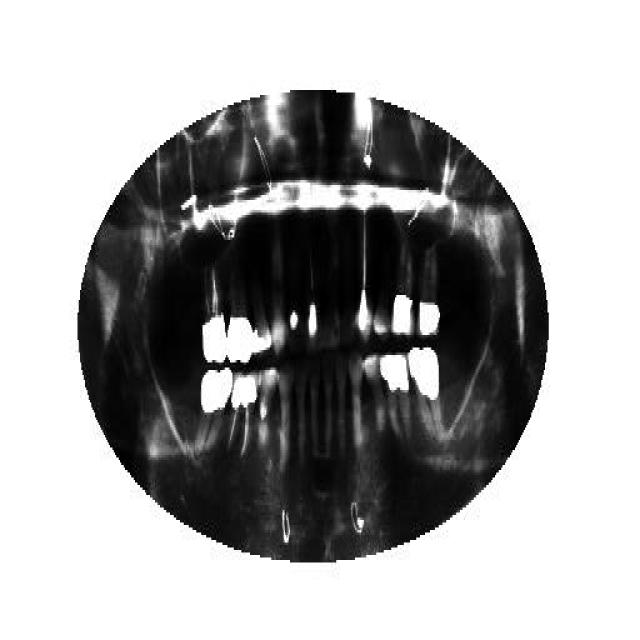Fillings: (408, 348, 443, 450), (196, 365, 232, 455), (382, 350, 412, 445), (415, 242, 441, 342), (392, 228, 413, 342), (226, 285, 255, 367), (252, 272, 272, 358)
Implant: (201, 262, 229, 362), (230, 370, 259, 465), (355, 210, 374, 342), (304, 230, 322, 358)
